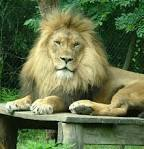lion: (28, 15, 142, 118)
